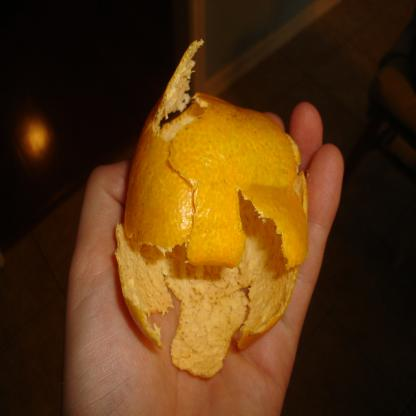Orange: (114, 36, 311, 382)
